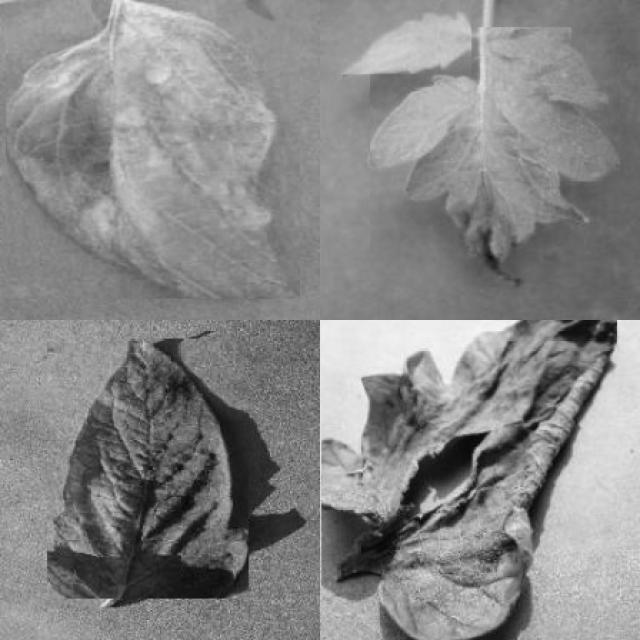Healthy: (338, 12, 472, 74)
Late Blight: (322, 320, 617, 640), (6, 0, 300, 299), (370, 27, 620, 287)
Spider Mites: (47, 340, 249, 600)
